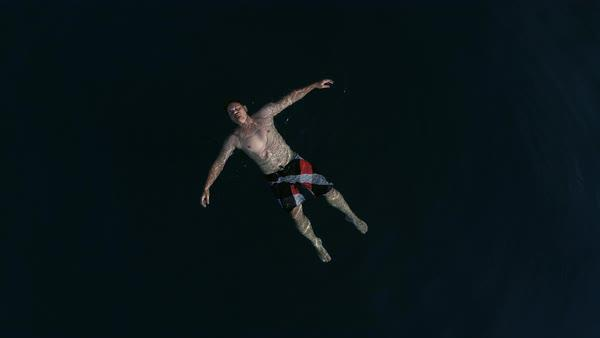human: (201, 78, 368, 264)
